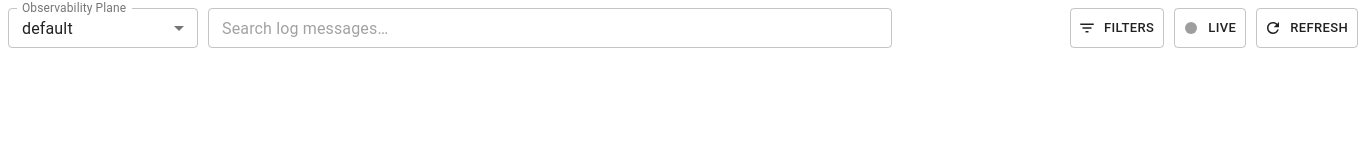
it: PlatformLogsToolbar plane picker › distinguishes same-named planes in the open list
Click the button named "Observability Plane" at (47, 28), box [22,18,73,38]
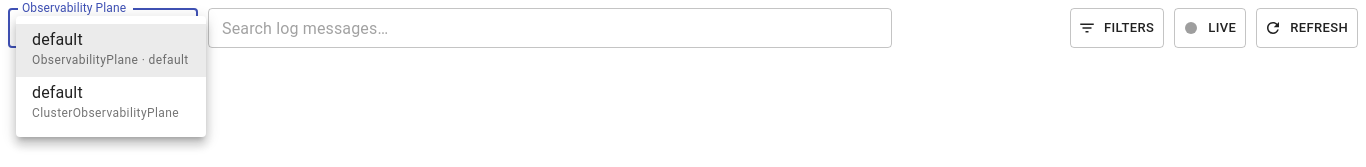
Check: the text "ObservabilityPlane · default" is shown, box [32,51,189,71]
Check: the text "ClusterObservabilityPlane" is shown, box [32,104,179,123]
